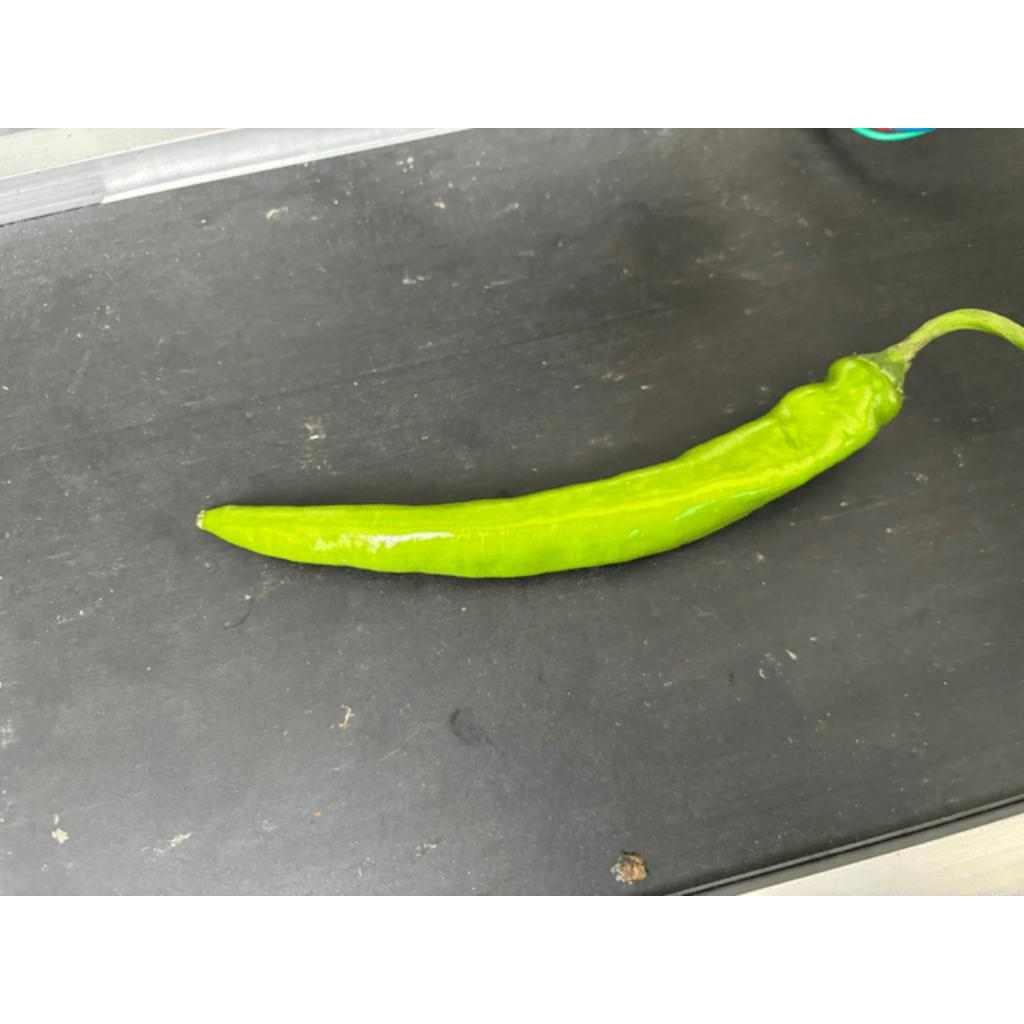chili: (197, 346, 914, 576)
